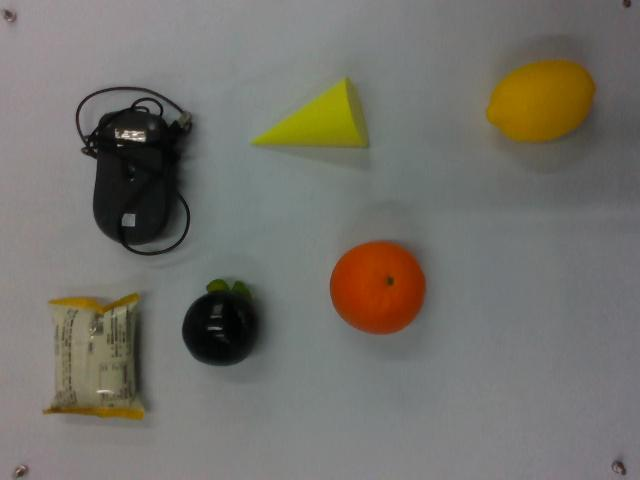cone: (249, 73, 373, 157)
dessert: (44, 287, 148, 424)
lemon: (486, 54, 598, 150)
mangosteen: (181, 275, 262, 370)
mouse: (76, 86, 198, 258)
orange: (328, 242, 426, 337)
